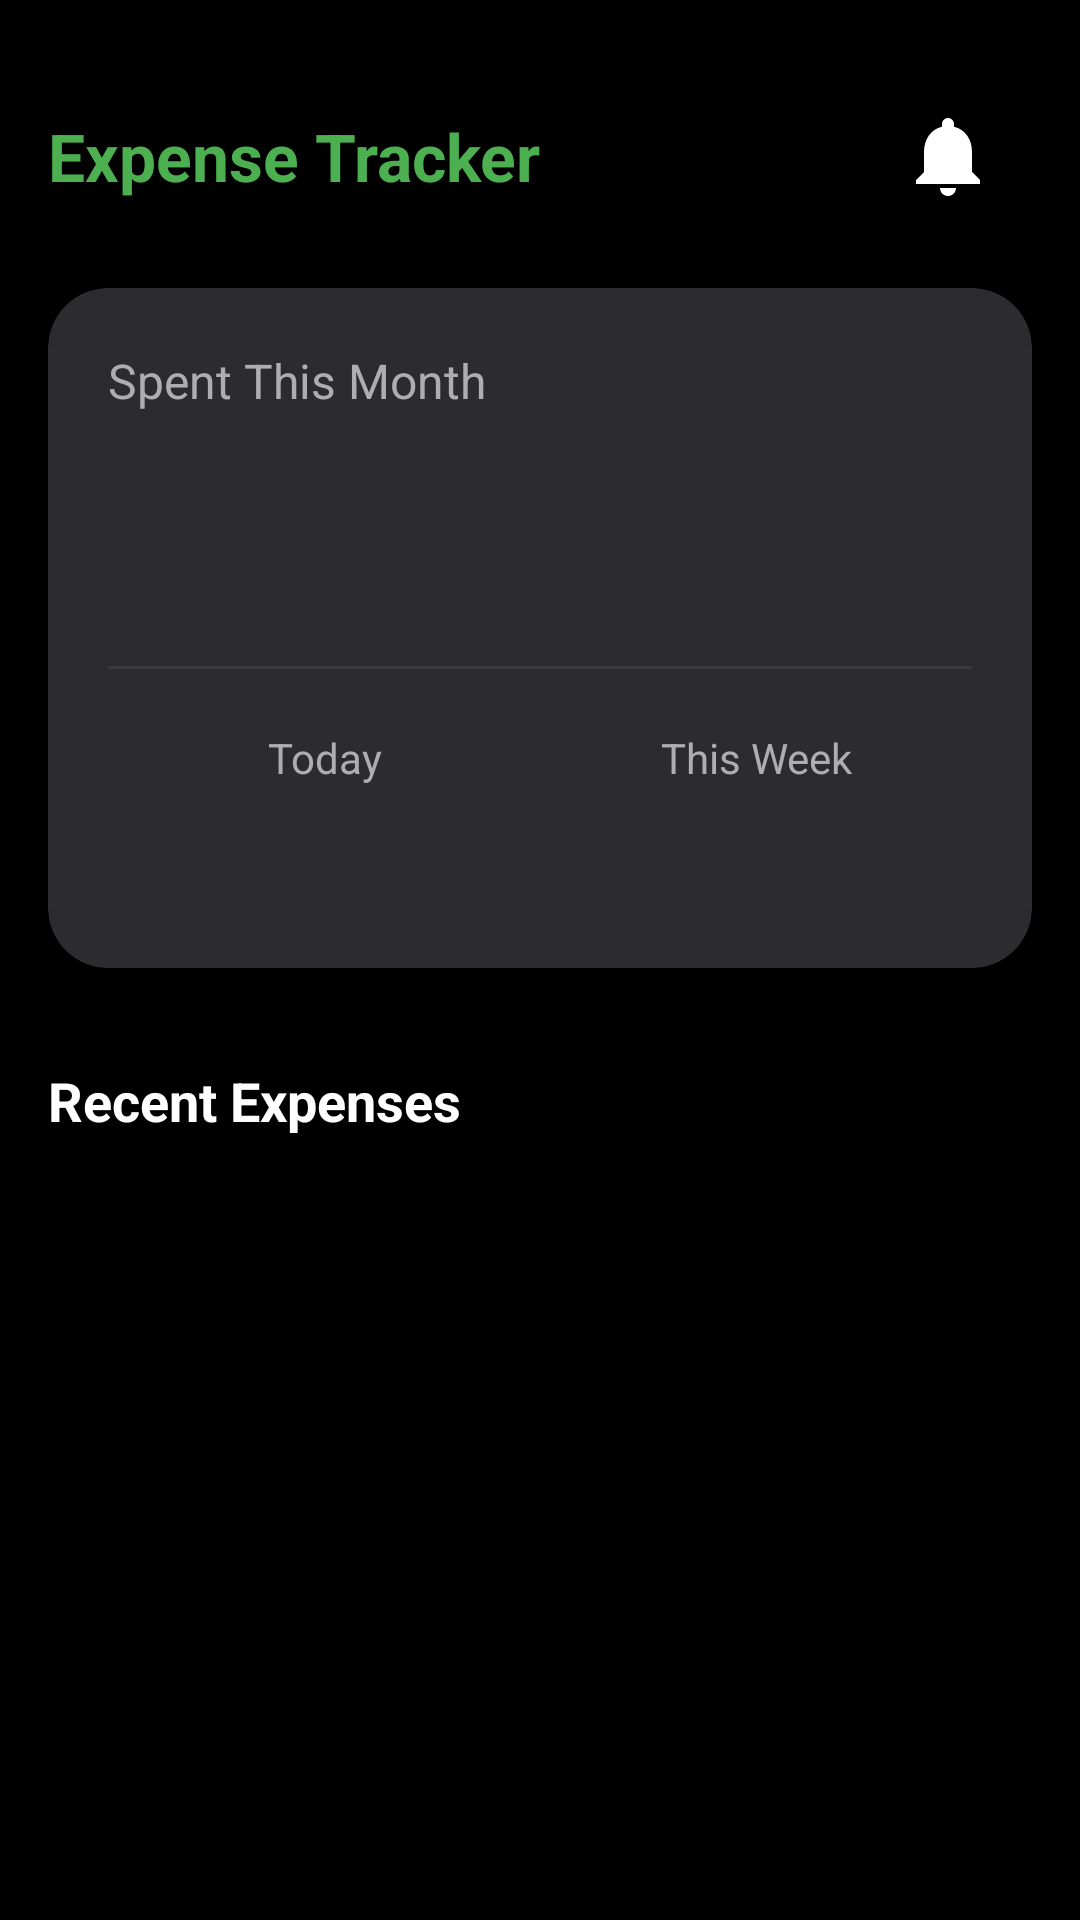

Icon click points for this 1080px x 1920px phone screenshot, format (x=x, y=y):
Notifications: (x=948, y=157)
